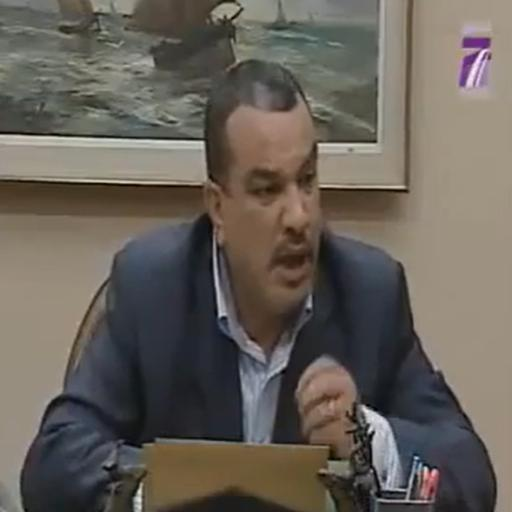slimane: (204, 60, 322, 343)
